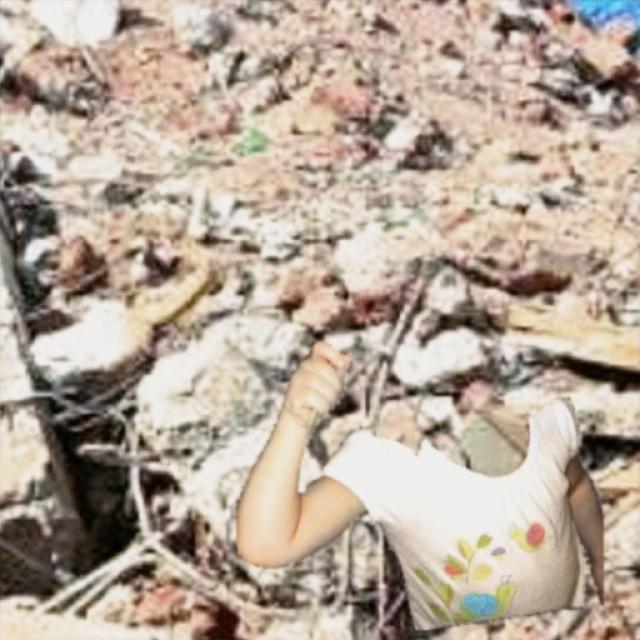Person in Rubble: (235, 340, 603, 629)
